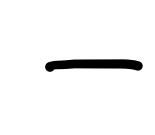minus: (45, 59, 143, 73)
